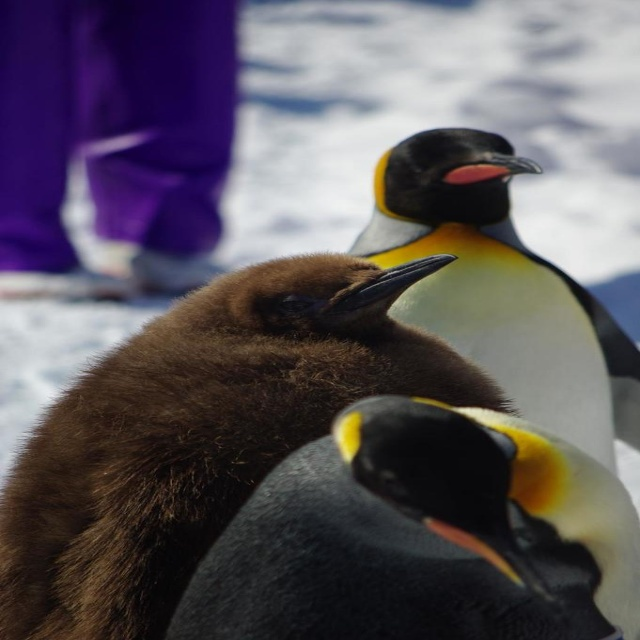Penguin: (337, 124, 639, 512), (162, 397, 639, 637)
